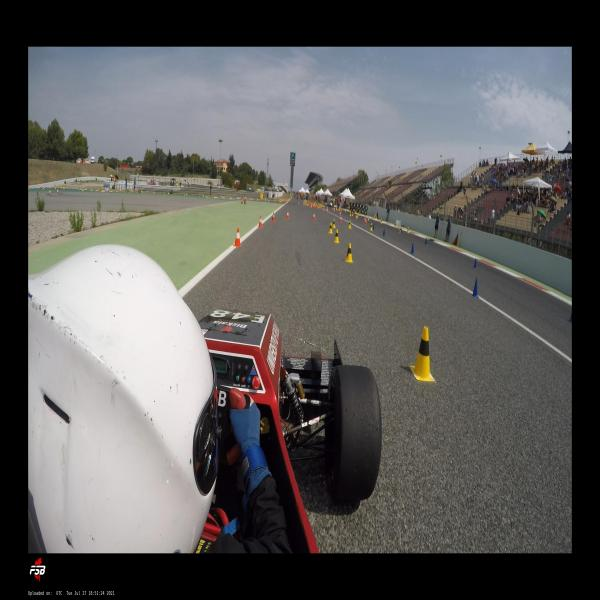orange_cone: (234, 228, 242, 247), (258, 216, 264, 228), (272, 212, 276, 222), (338, 215, 342, 223), (286, 211, 290, 219), (313, 213, 316, 220), (338, 211, 341, 217), (365, 218, 367, 226), (355, 214, 358, 219), (322, 208, 325, 212), (364, 218, 366, 223), (326, 208, 328, 213), (57, 189, 59, 194), (97, 187, 99, 191), (107, 188, 109, 192), (43, 186, 44, 189)
unknown_cone: (470, 279, 479, 298), (473, 258, 477, 268), (410, 243, 414, 253), (424, 236, 427, 245), (382, 228, 385, 236), (372, 224, 375, 230)
yellow_cone: (410, 326, 436, 381), (344, 242, 353, 262), (333, 229, 340, 243), (328, 222, 333, 234), (331, 219, 336, 230), (348, 220, 352, 229), (370, 223, 373, 231), (398, 227, 401, 234), (380, 218, 383, 224), (367, 216, 370, 222), (407, 227, 409, 233), (394, 222, 396, 228), (349, 212, 351, 217), (57, 189, 59, 194), (50, 188, 52, 193), (63, 185, 65, 189), (102, 188, 104, 192), (140, 189, 142, 193), (82, 187, 84, 191), (352, 211, 353, 216)
